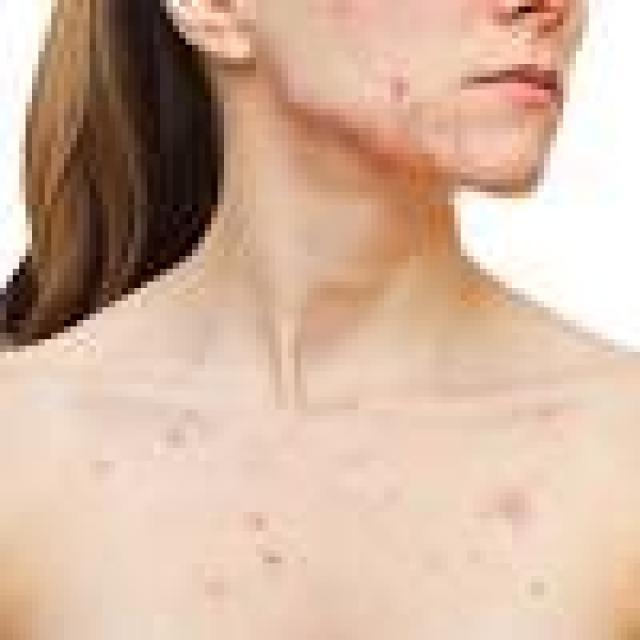acne: (226, 496, 308, 580), (384, 58, 418, 94)
